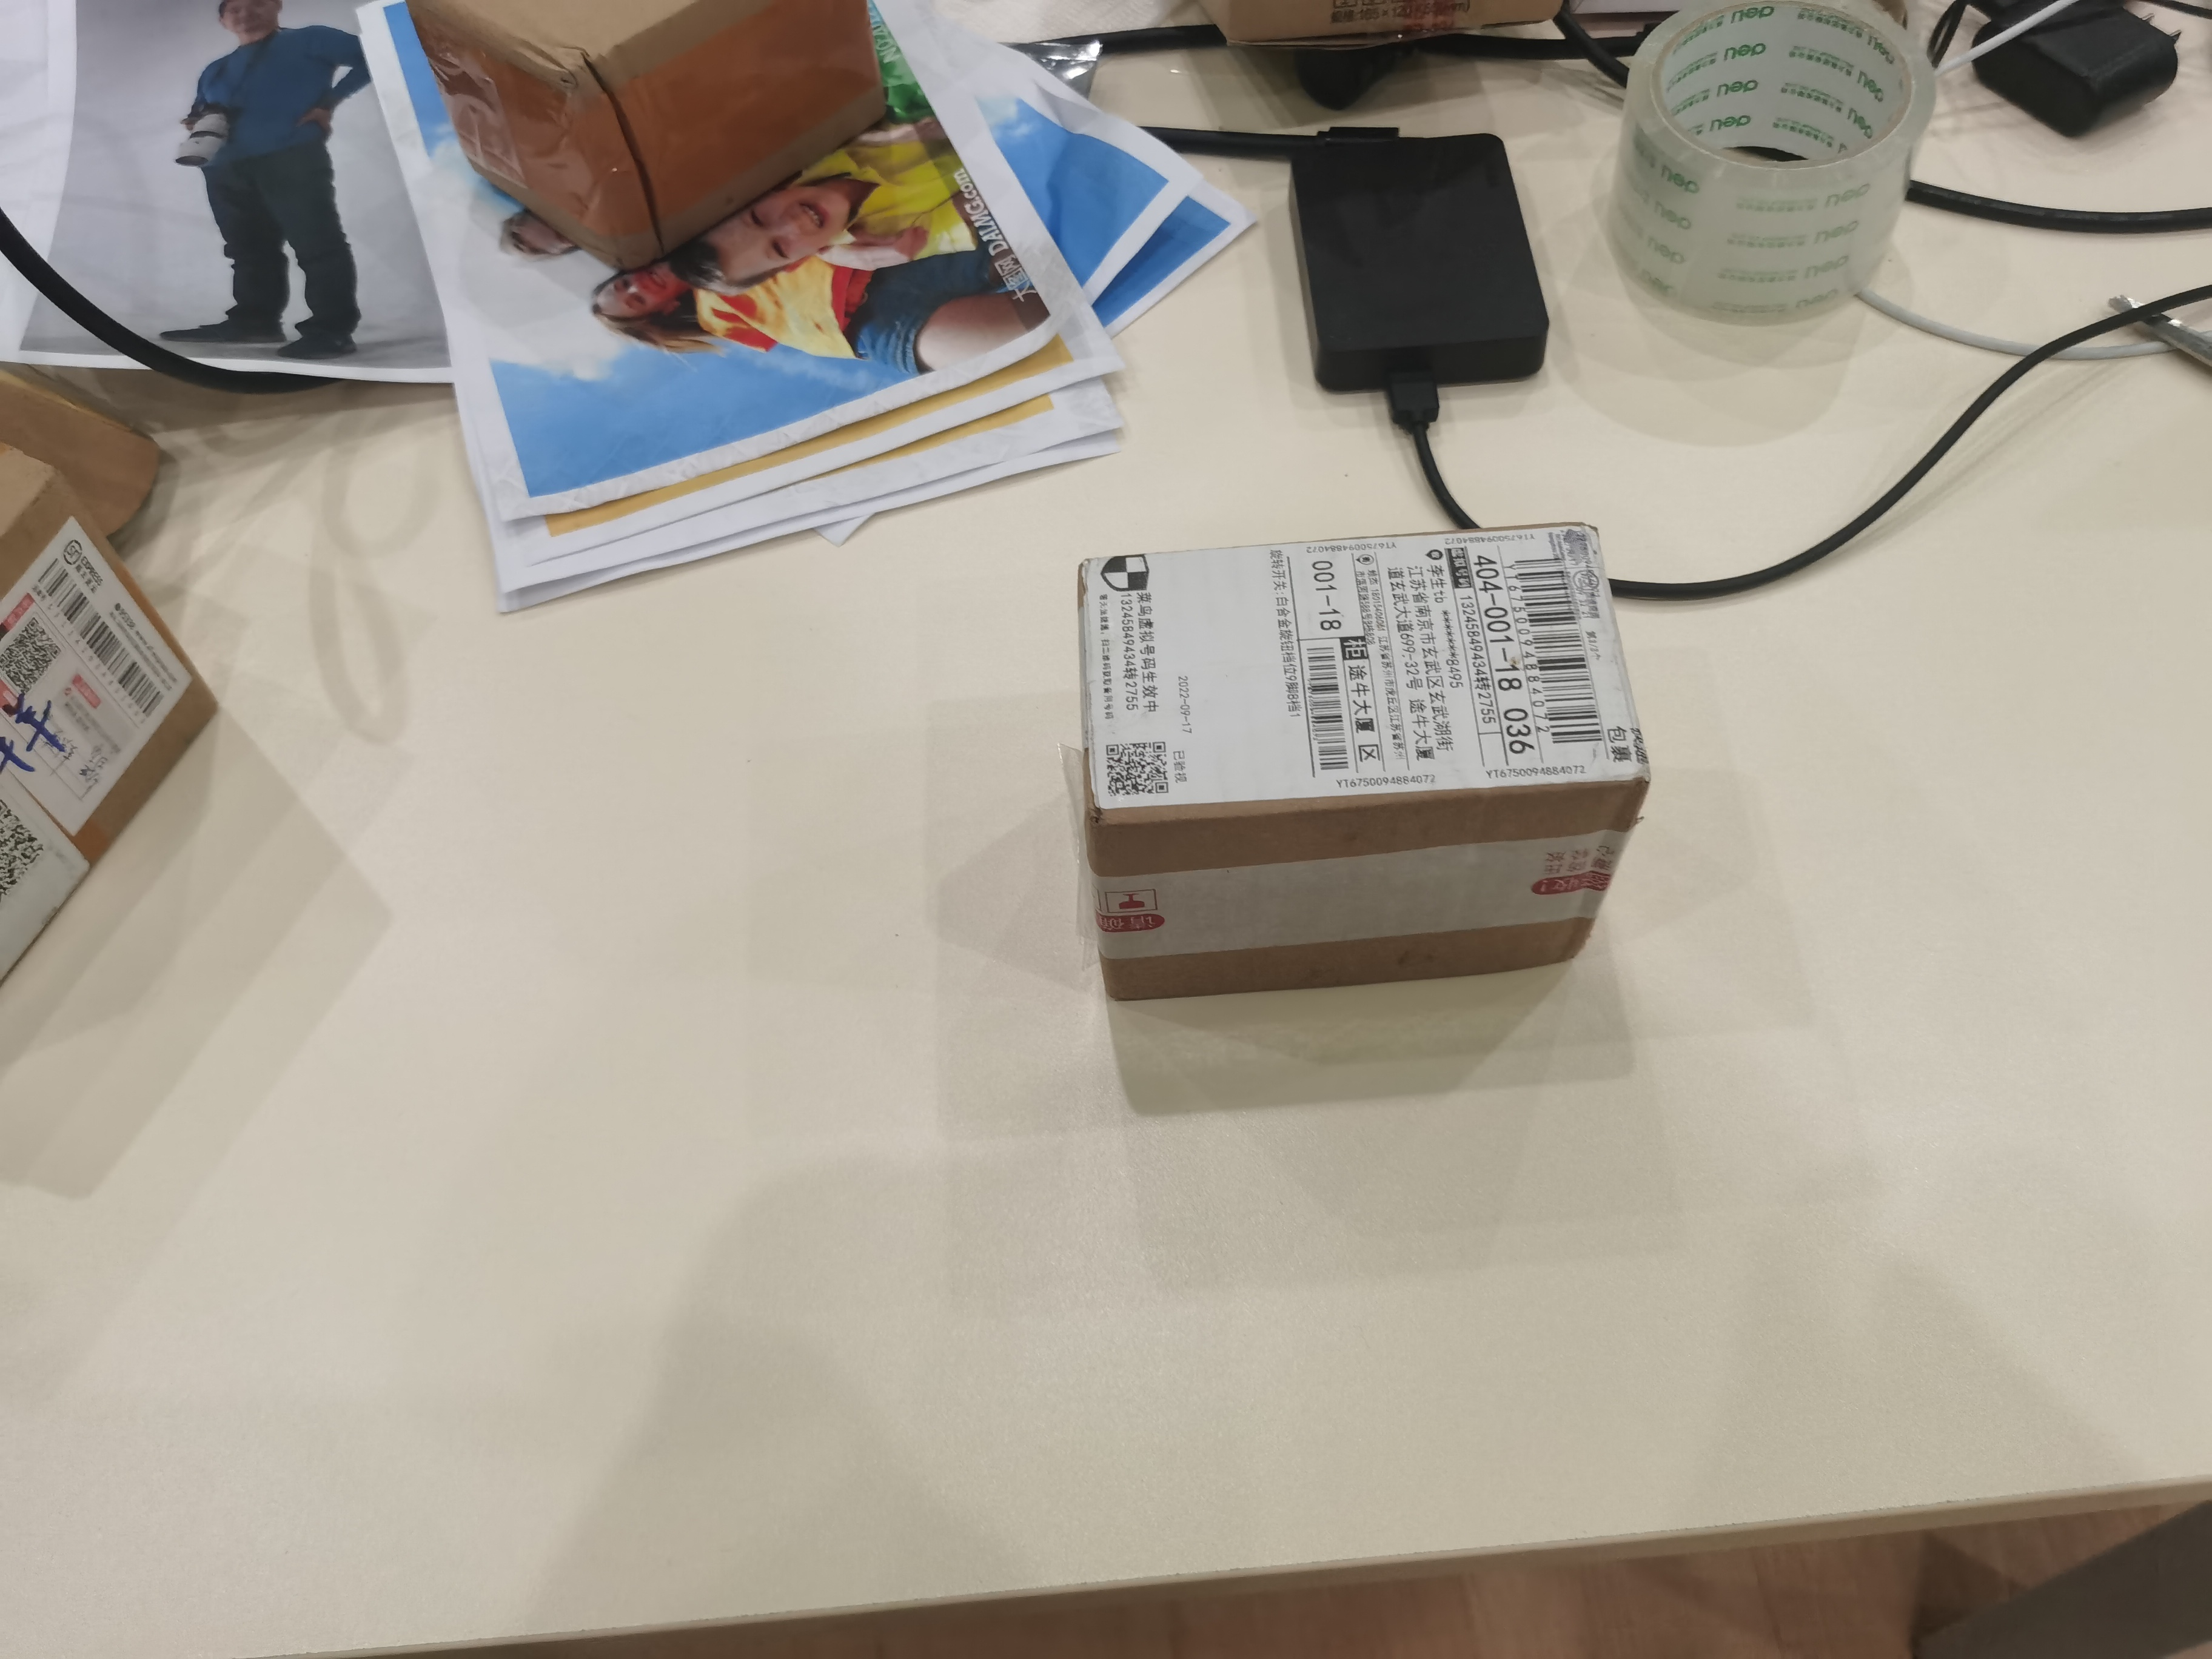box: (993, 525, 1670, 990)
